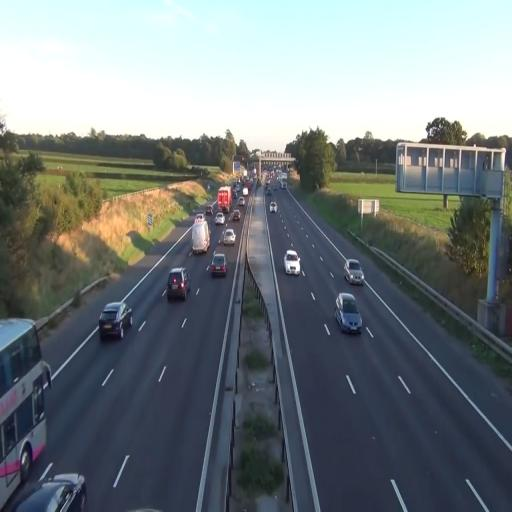vehicle: (0, 317, 52, 511), (4, 469, 87, 511), (98, 298, 134, 342), (334, 292, 362, 334), (166, 268, 188, 302), (344, 258, 364, 285), (209, 251, 227, 278), (216, 187, 232, 214), (284, 249, 300, 275), (221, 227, 236, 245), (214, 209, 227, 226), (231, 205, 243, 222)
